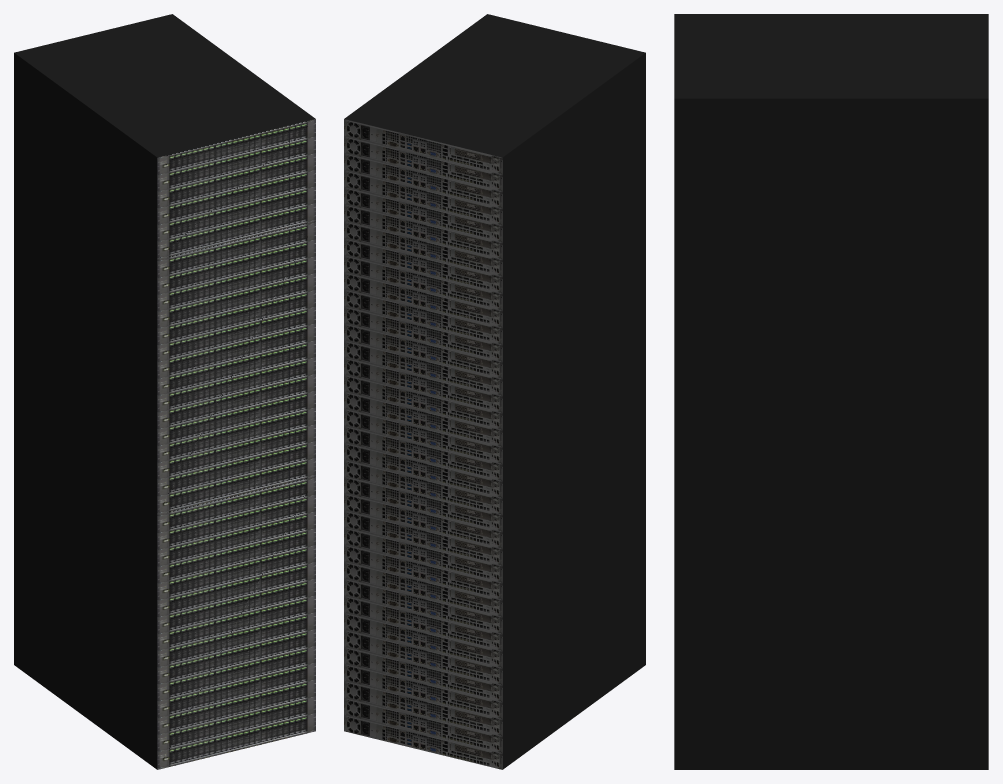
The model's file is TDR36.fbx.
The picture shows the model from 3 angles, left to right: view 1: azimuth 30°, elevation 25°; view 2: azimuth 150°, elevation 25°; view 3: azimuth 270°, elevation 25°; orthographic projection. The views are drawn at different scales.
Visible parts, largest first — view 1: TDR36; view 2: TDR36; view 3: TDR36.
Boxes of the visible parts, x1,y1,x2,y2 form: TDR36: (14,14,315,769); TDR36: (344,14,645,769); TDR36: (674,14,988,769).
Bounding box in the file's own units: 434 × 1602 × 680.
3 materials, 2 textured.
